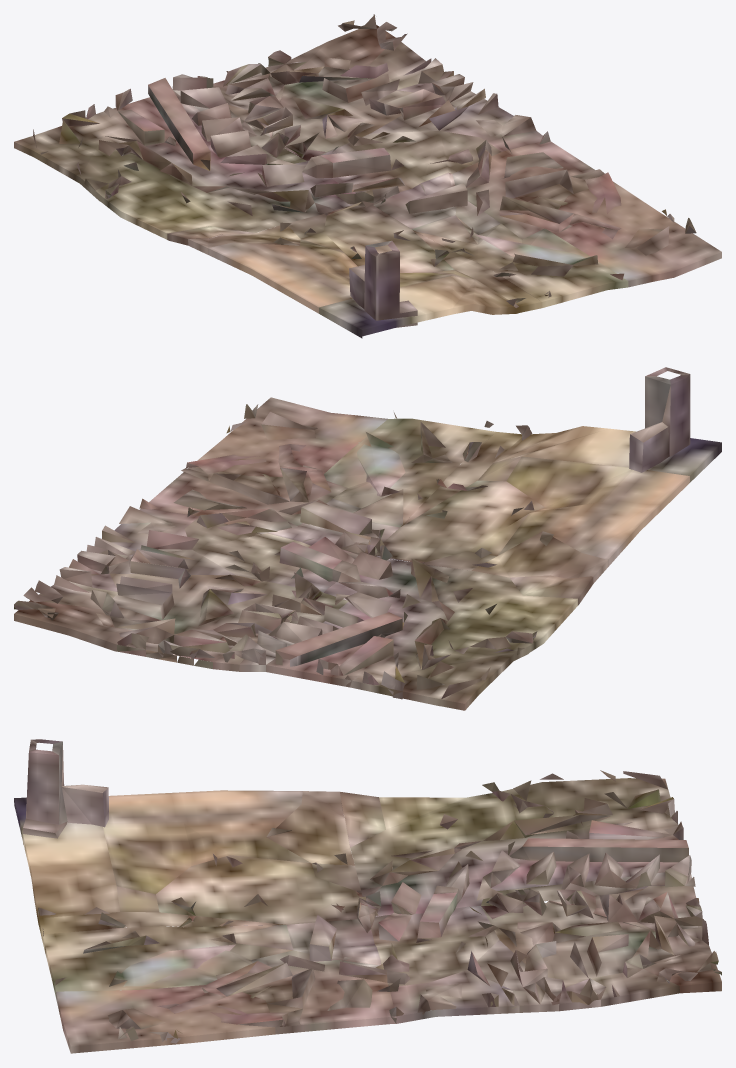
The picture shows the model from 3 angles, top to bottom: view 1: azimuth 30°, elevation 25°; view 2: azimuth 150°, elevation 25°; view 3: azimuth 270°, elevation 25°; orthographic projection. The views are drawn at different scales.
Parts seen in each view (by area): view 1: Mesh_0; view 2: Mesh_0; view 3: Mesh_0.
Part boxes in pixels (x1,y1,x2,y2): Mesh_0: (14, 14, 721, 338); Mesh_0: (14, 367, 721, 710); Mesh_0: (14, 739, 721, 1053).
Bounding box in the file's own units: 532 × 124 × 659.
1 material, 1 textured.
